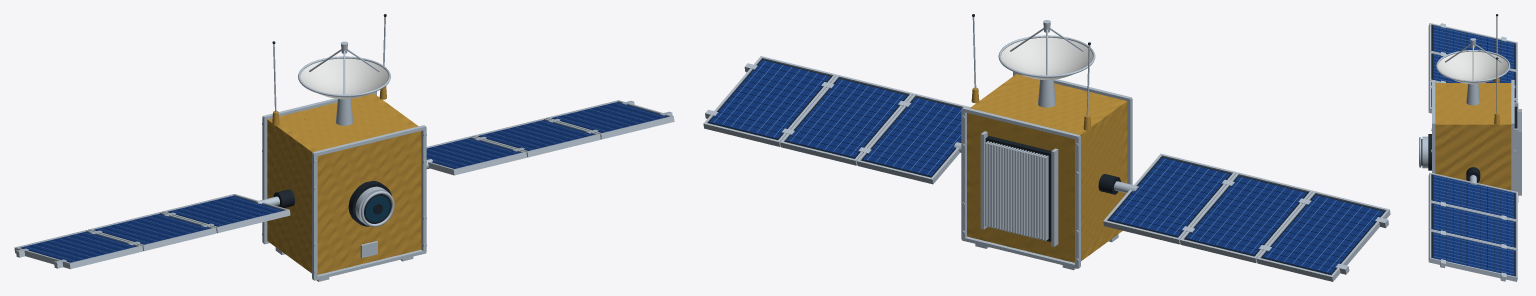
The model's file is satelite.glb.
3 renders of one model, left to right at view 1: azimuth 30°, elevation 25°; view 2: azimuth 150°, elevation 25°; view 3: azimuth 270°, elevation 25°, orthographic. The views are drawn at different scales.
Parts seen in each view (by area): view 1: Manta termica, Largueros y tornilleria, Panel solar izquierda 3 (×3), Panel solar derecha 3 (×3), Panel solar izquierda 1 (×3), Panel solar derecha 2 (×3), Panel solar izquierda 2 (×3), Panel solar derecha 1 (×2), Reflector parabolico, Camara frontal (×3), Borde de parabola, Soporte de parabola; view 2: Manta termica, Panel solar izquierda 3 (×4), Panel solar derecha 3 (×4), Panel solar izquierda 1 (×4), Panel solar izquierda 2 (×4), Panel solar derecha 2 (×4), Radiador posterior (×2), Panel solar derecha 1 (×4), Largueros y tornilleria, Reflector parabolico, Borde de parabola, Soporte de parabola; view 3: Manta termica, Panel solar derecha 3 (×4), Panel solar derecha 2 (×4), Panel solar derecha 1 (×4), Panel solar izquierda 3 (×4), Reflector parabolico, Panel solar izquierda 2 (×4), Largueros y tornilleria, Radiador posterior (×2), Camara frontal (×2), Borde de parabola, Antenas de telemetria (×2) (+4 smaller).
Boxes of the visible parts, <box> form: Manta termica: <box>267,93,421,274</box>; Largueros y tornilleria: <box>262,91,426,280</box>; Panel solar izquierda 3 (×3): <box>14,230,142,269</box>; Panel solar derecha 3 (×3): <box>546,100,674,139</box>; Panel solar izquierda 1 (×3): <box>162,194,290,233</box>; Panel solar derecha 2 (×3): <box>472,118,600,157</box>; Panel solar izquierda 2 (×3): <box>88,212,216,250</box>; Panel solar derecha 1 (×2): <box>426,136,526,175</box>; Reflector parabolico: <box>300,58,388,99</box>; Camara frontal (×3): <box>348,181,394,226</box>; Borde de parabola: <box>298,56,390,96</box>; Soporte de parabola: <box>336,99,352,125</box>; Manta termica: <box>967,74,1127,262</box>; Panel solar izquierda 3 (×4): <box>1256,191,1390,281</box>; Panel solar derecha 3 (×4): <box>703,56,836,146</box>; Panel solar izquierda 1 (×4): <box>1103,153,1236,244</box>; Panel solar izquierda 2 (×4): <box>1180,172,1313,262</box>; Panel solar derecha 2 (×4): <box>780,74,913,165</box>; Radiador posterior (×2): <box>980,131,1058,246</box>; Panel solar derecha 1 (×4): <box>857,93,970,184</box>; Largueros y tornilleria: <box>961,72,1132,268</box>; Reflector parabolico: <box>1001,37,1092,79</box>; Borde de parabola: <box>998,35,1095,77</box>; Soporte de parabola: <box>1038,79,1055,107</box>; Manta termica: <box>1435,83,1511,190</box>; Panel solar derecha 3 (×4): <box>1428,230,1517,281</box>; Panel solar derecha 2 (×4): <box>1428,201,1517,249</box>; Panel solar derecha 1 (×4): <box>1428,172,1517,220</box>; Panel solar izquierda 3 (×4): <box>1428,23,1517,70</box>; Reflector parabolico: <box>1438,51,1508,84</box>; Panel solar izquierda 2 (×4): <box>1428,51,1517,99</box>; Largueros y tornilleria: <box>1431,80,1515,191</box>; Radiador posterior (×2): <box>1514,102,1521,202</box>; Camara frontal (×2): <box>1419,134,1431,170</box>; Borde de parabola: <box>1436,50,1510,82</box>; Antenas de telemetria (×2): <box>1494,16,1499,124</box>.
Size of the model in its own units: 11.44 by 3.88 by 2.08.
